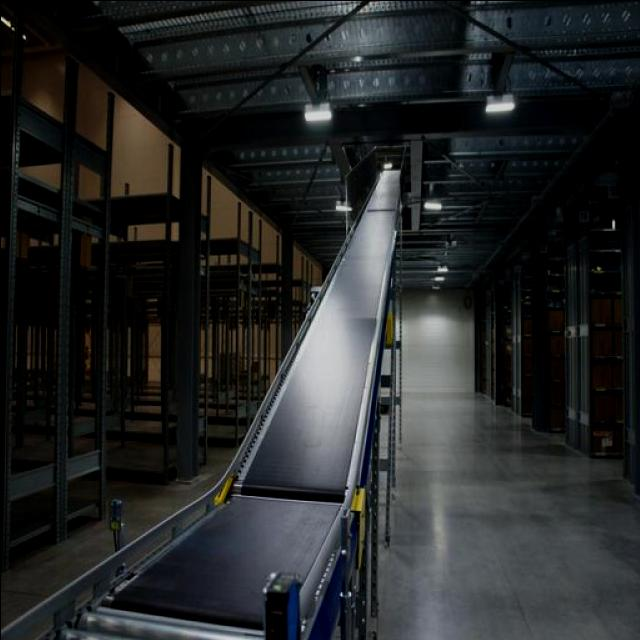conveyor: (79, 164, 401, 640)
